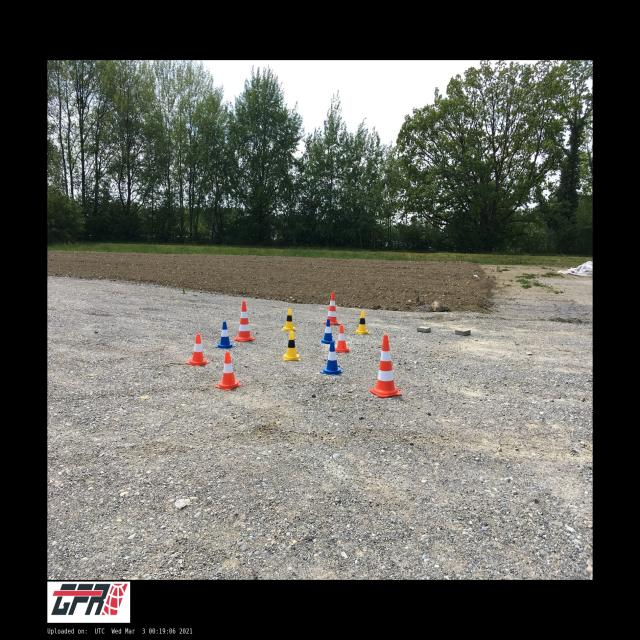blue_cone: (321, 341, 342, 375), (217, 321, 234, 347), (321, 317, 334, 344)
large_orange_cone: (370, 334, 401, 398), (234, 301, 255, 342), (324, 291, 340, 324)
orange_cone: (216, 352, 241, 390), (186, 333, 209, 367), (334, 324, 350, 352)
yellow_cone: (283, 331, 299, 358), (283, 308, 296, 329), (356, 311, 368, 333)
